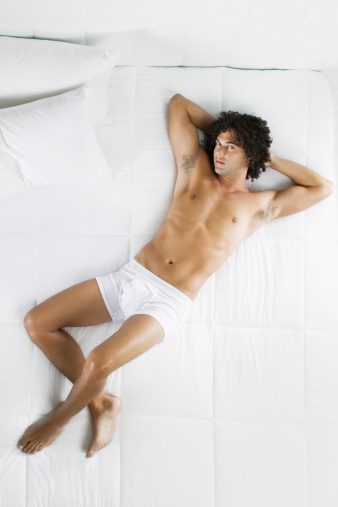deitado: (0, 87, 304, 483)
